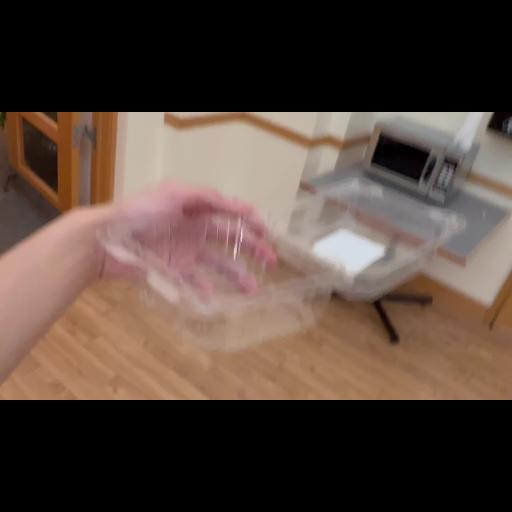small_plastic_container: (106, 182, 446, 354)
